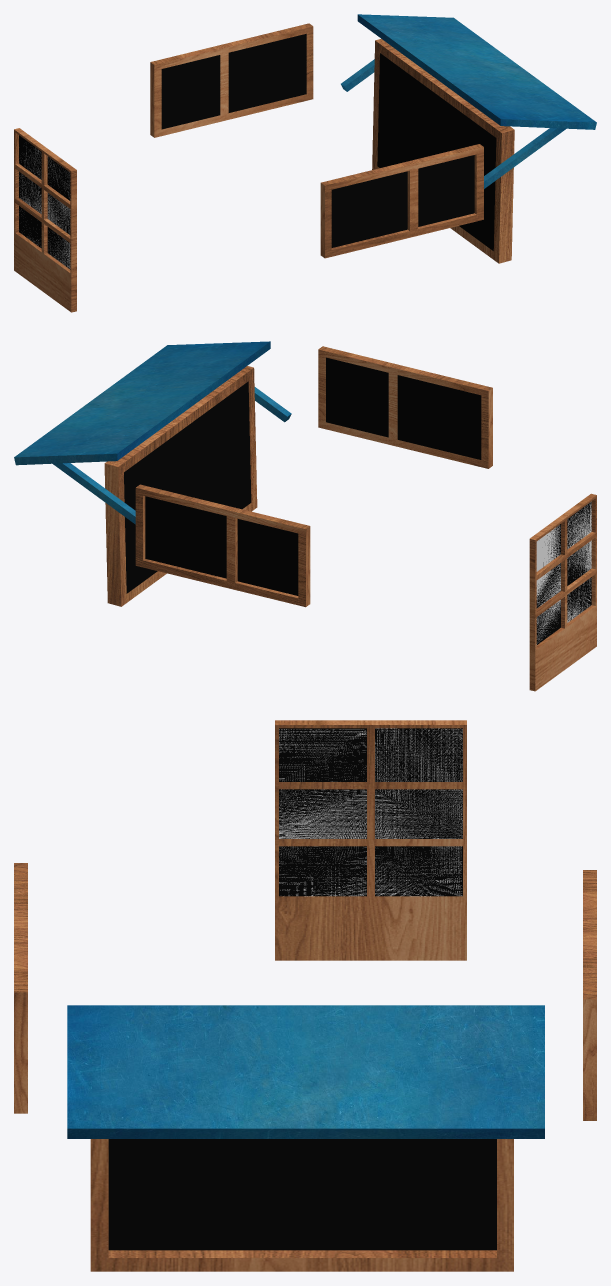
The picture shows the model from 3 angles, top to bottom: view 1: azimuth 30°, elevation 25°; view 2: azimuth 150°, elevation 25°; view 3: azimuth 270°, elevation 25°; orthographic projection. The views are drawn at different scales.
Visible parts, largest first — view 1: Object_23, Object_1, Object_13, Object_2, Object_24, Object_12, Object_25, Object_9, Object_11, Object_10, Object_22, Object_6 (+7 smaller); view 2: Object_23, Object_1, Object_13, Object_2, Object_25, Object_9, Object_24, Object_12, Object_10, Object_11, Object_21, Object_17 (+9 smaller); view 3: Object_23, Object_1, Object_13, Object_2, Object_3, Object_6, Object_5, Object_8, Object_4, Object_7, Object_24, Object_25 (+6 smaller).
Boxes of the visible parts, x1,y1,x2,y2 form: Object_23: [357, 14, 596, 129]; Object_1: [377, 53, 496, 250]; Object_13: [14, 128, 76, 312]; Object_2: [372, 38, 514, 263]; Object_24: [320, 144, 483, 258]; Object_12: [228, 34, 306, 112]; Object_25: [150, 23, 313, 137]; Object_9: [331, 171, 407, 247]; Object_11: [161, 55, 220, 129]; Object_10: [418, 155, 474, 226]; Object_22: [484, 128, 566, 188]; Object_6: [47, 156, 70, 200]; Object_23: [14, 341, 270, 465]; Object_1: [124, 381, 251, 593]; Object_13: [529, 493, 596, 691]; Object_2: [104, 366, 257, 606]; Object_25: [135, 484, 310, 607]; Object_9: [397, 375, 481, 459]; Object_24: [318, 346, 492, 468]; Object_12: [145, 496, 226, 578]; Object_10: [326, 357, 388, 437]; Object_11: [237, 519, 298, 595]; Object_21: [52, 463, 135, 524]; Object_17: [536, 525, 560, 571]; Object_23: [67, 1005, 544, 1138]; Object_1: [108, 1139, 496, 1250]; Object_13: [275, 720, 466, 960]; Object_2: [90, 1139, 513, 1271]; Object_3: [375, 728, 462, 781]; Object_6: [279, 728, 366, 781]; Object_5: [375, 846, 462, 896]; Object_8: [279, 846, 366, 896]; Object_4: [375, 789, 462, 838]; Object_7: [279, 789, 366, 838]; Object_24: [14, 863, 27, 1113]; Object_25: [583, 870, 596, 1120].
Size of the model in its own units: 675 by 210 by 441.
4 materials, 2 textured.
